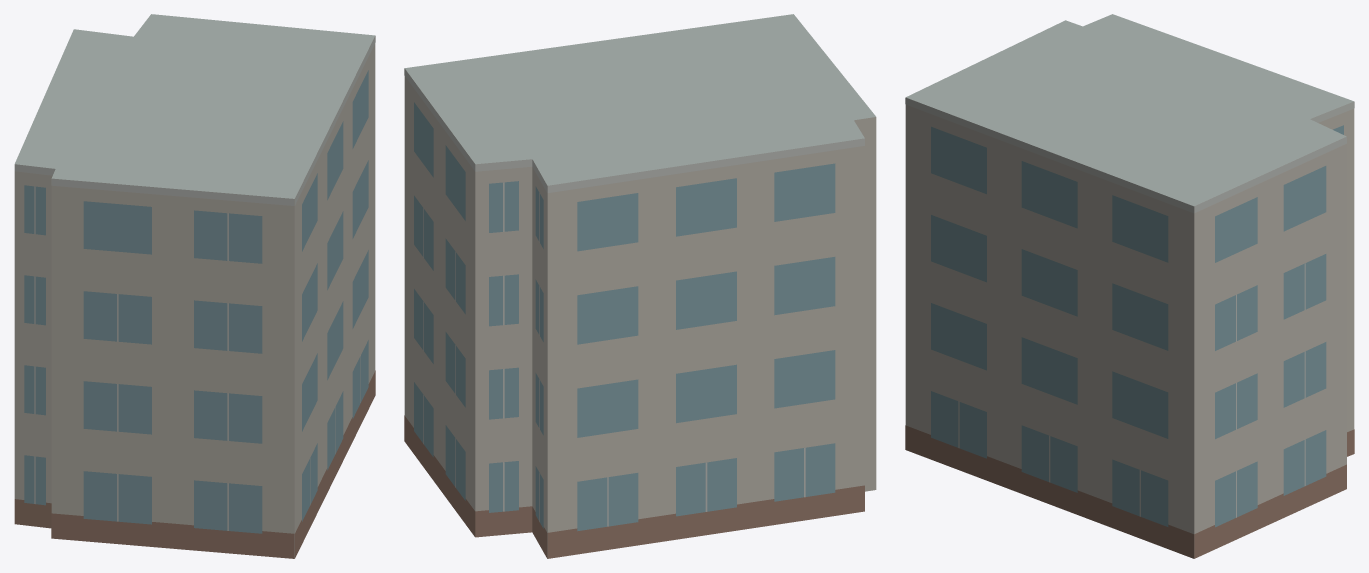
The model's file is survey-upis-32669087.glb.
The picture shows the model from 3 angles, left to right: view 1: azimuth 30°, elevation 25°; view 2: azimuth 150°, elevation 25°; view 3: azimuth 270°, elevation 25°; orthographic projection. The views are drawn at different scales.
Visible parts, largest first — view 1: survey-upis-32669087.tmp; view 2: survey-upis-32669087.tmp; view 3: survey-upis-32669087.tmp.
Part boxes in pixels (<box>): survey-upis-32669087.tmp: <box>14,14,375,558</box>; survey-upis-32669087.tmp: <box>404,14,876,558</box>; survey-upis-32669087.tmp: <box>905,14,1354,558</box>.
Bounding box in the file's own units: 14.29 × 12.2 × 14.09.
